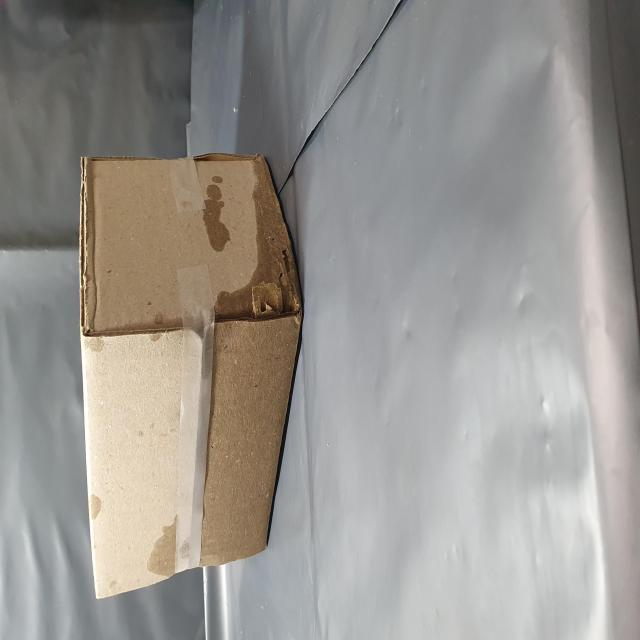wet: (47, 312, 267, 533)
